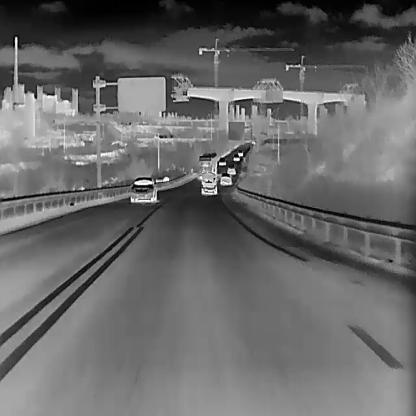car: (129, 176, 157, 202), (202, 172, 217, 195), (219, 172, 230, 186), (227, 164, 235, 174), (219, 156, 225, 165), (237, 149, 243, 157), (233, 154, 238, 160)
truck: (199, 152, 216, 180)
